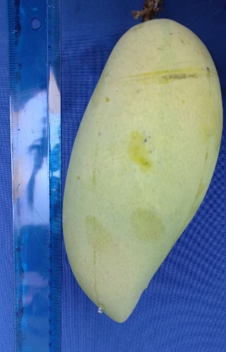Mango-sano: (63, 19, 222, 322)
